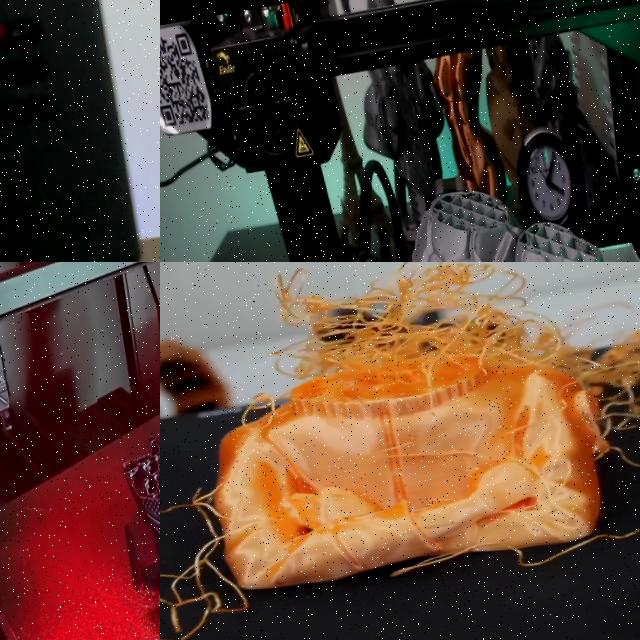spaghetti: (288, 262, 640, 467), (160, 499, 249, 640)
